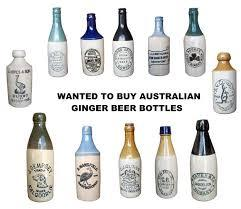Glass bottle: (3, 5, 241, 209)
